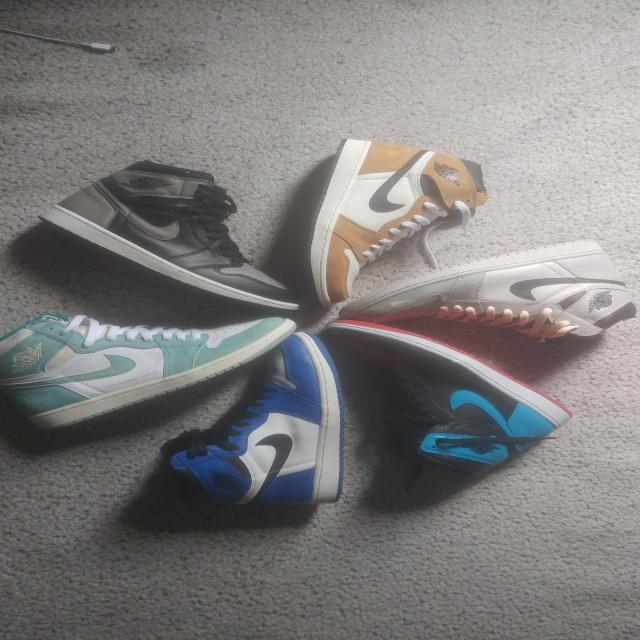shoe: (148, 347, 398, 531), (330, 322, 575, 504), (33, 150, 268, 317), (381, 229, 640, 335), (303, 137, 476, 290), (1, 304, 270, 388)
